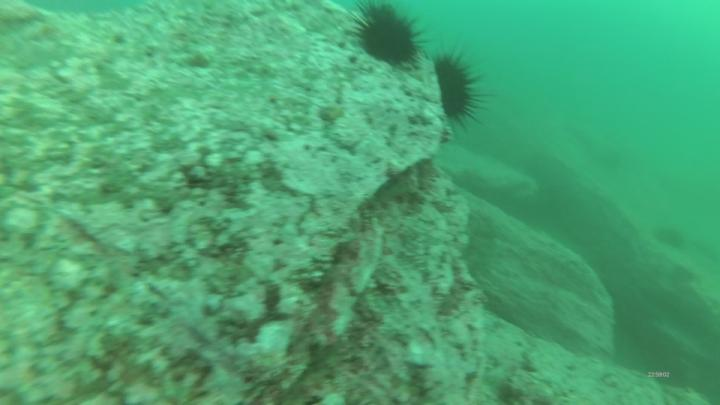echinus: (360, 8, 421, 62), (438, 57, 474, 121)
